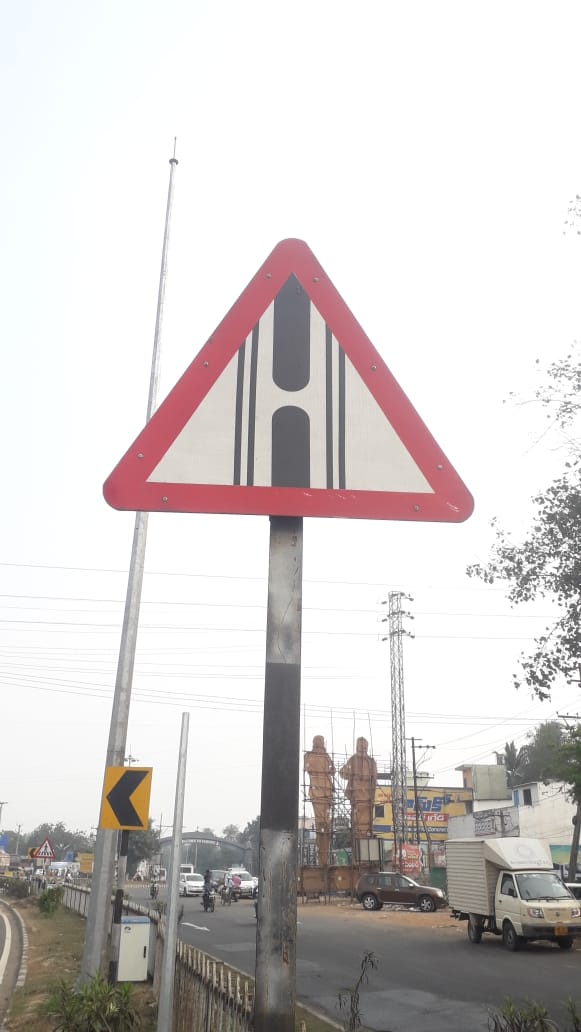highway go straight: (106, 224, 506, 559)
